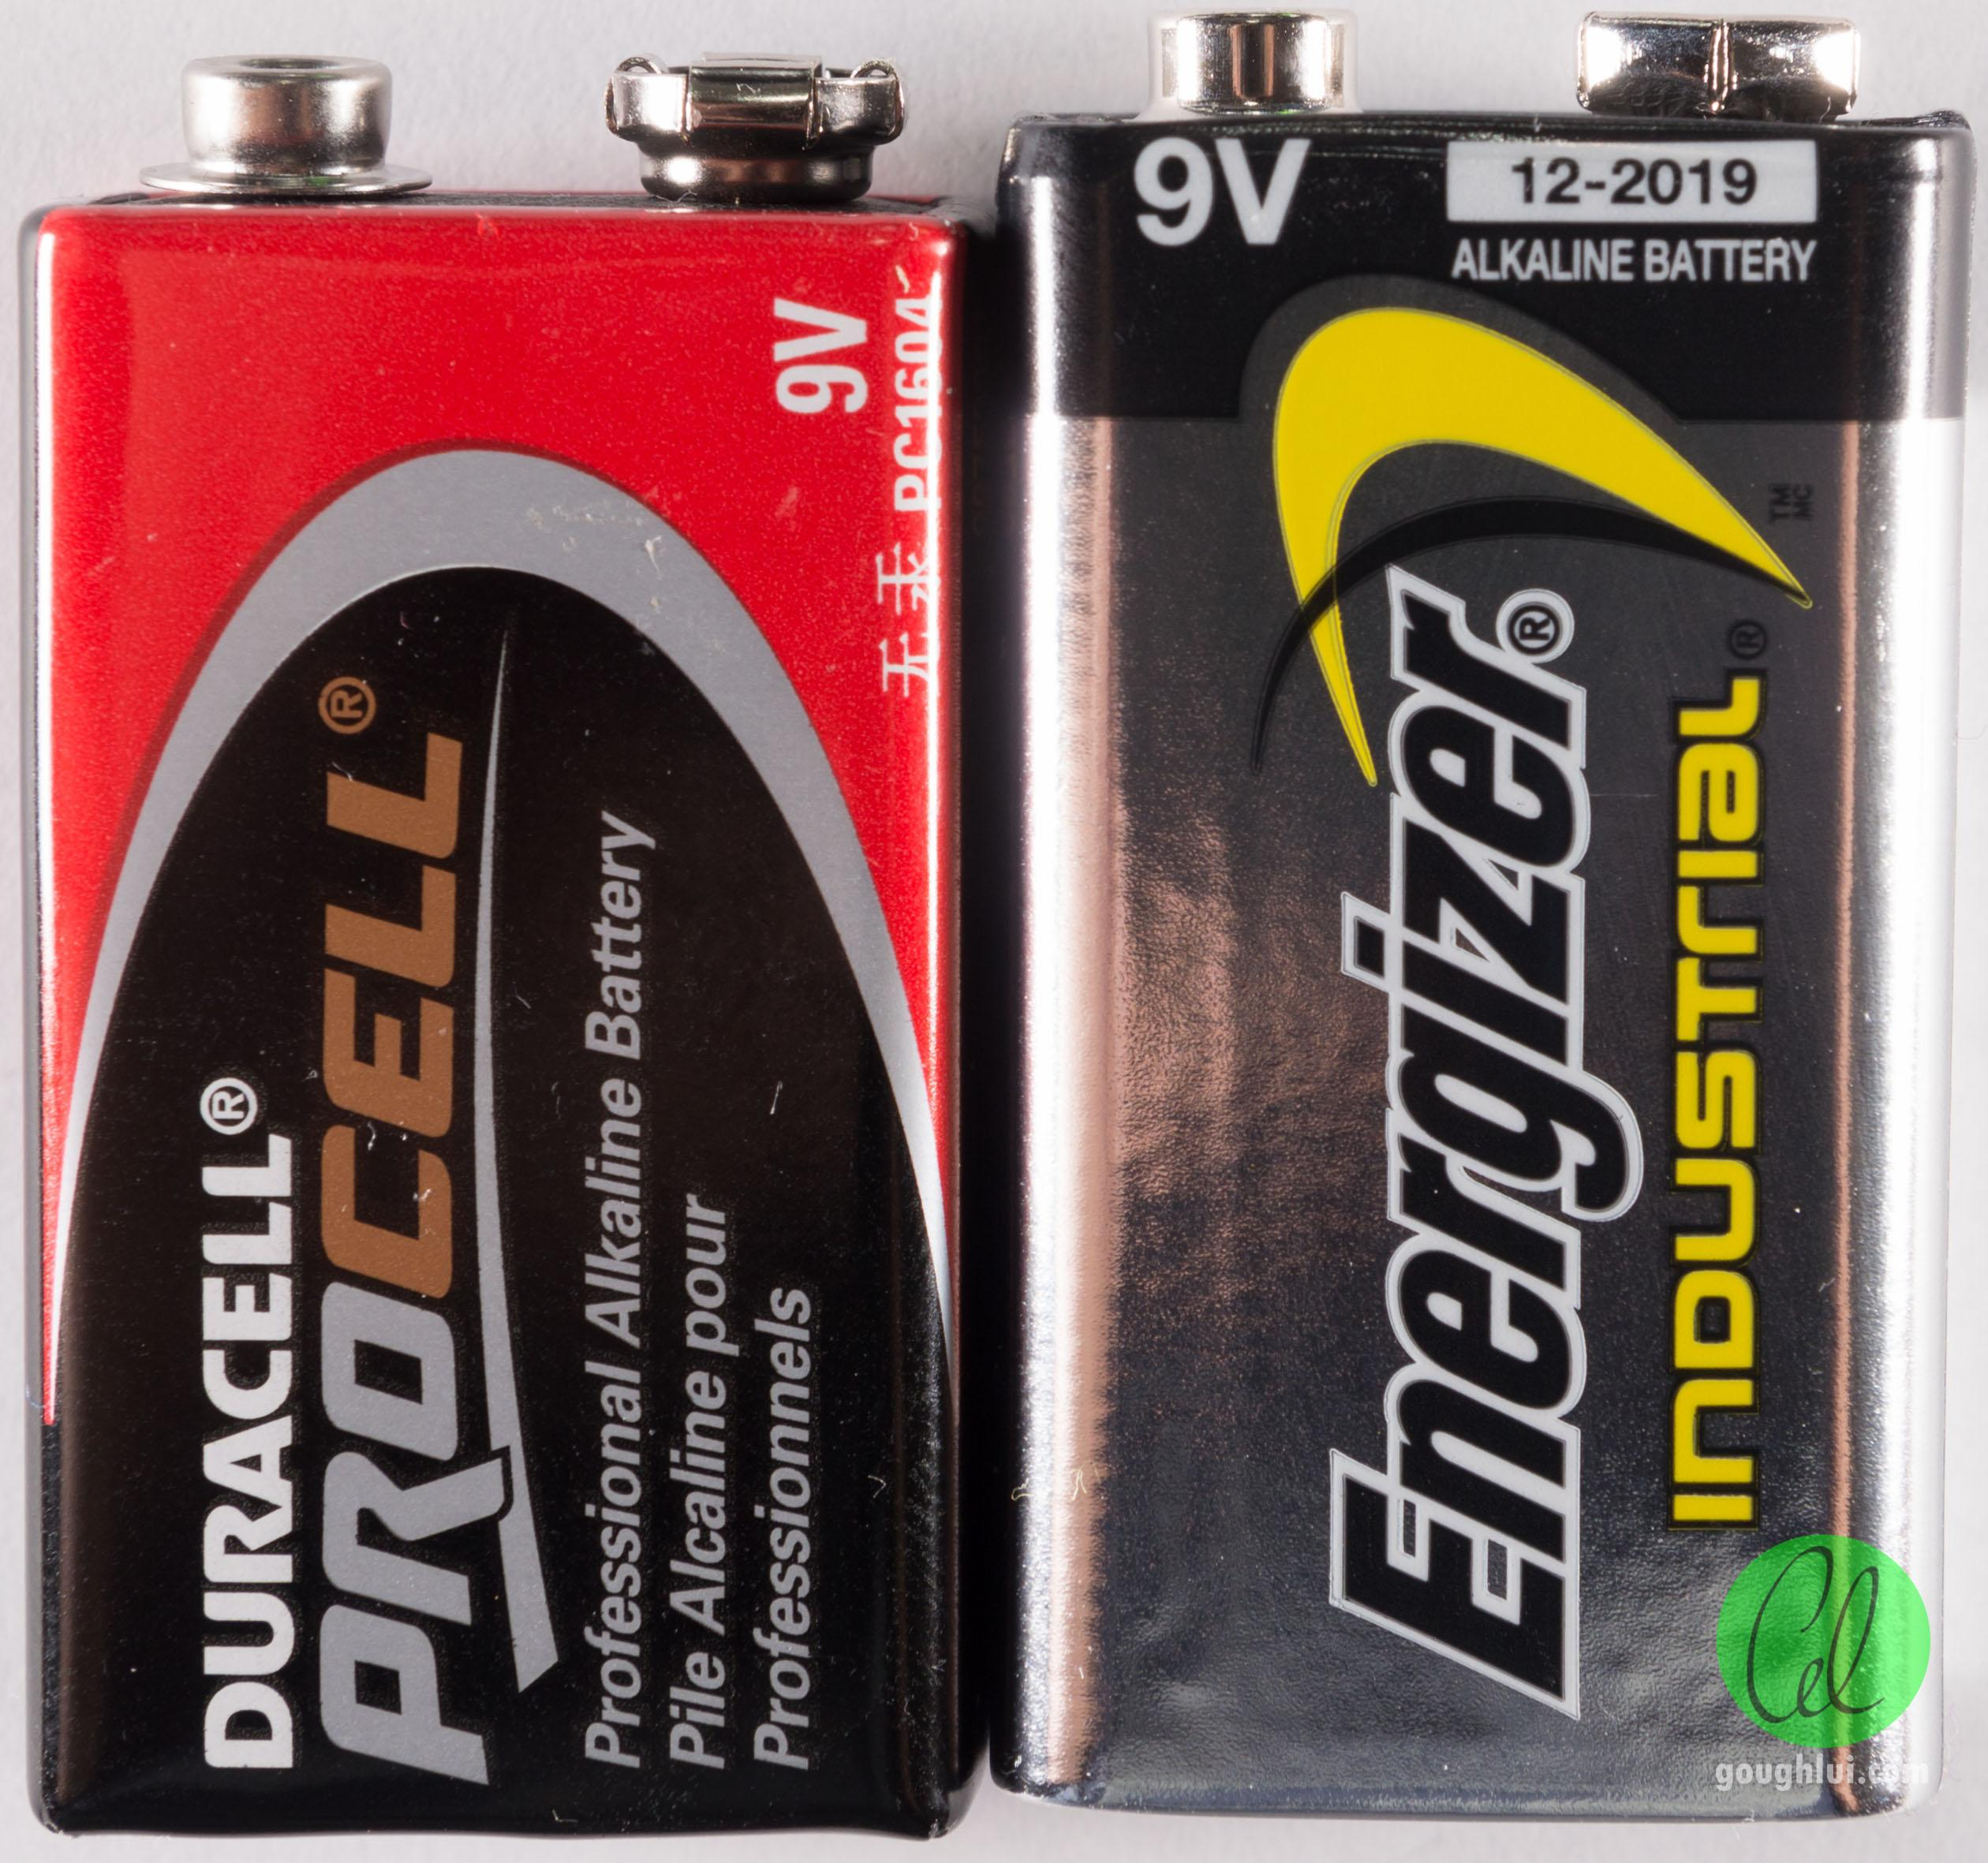9V Battery: (1011, 16, 1976, 1830), (32, 56, 965, 1840)
